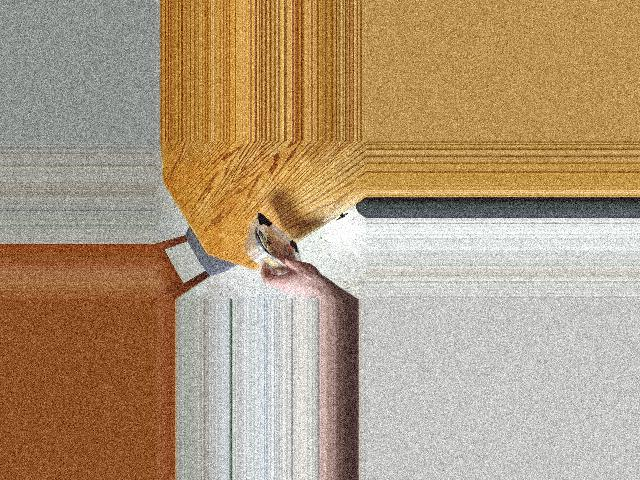cheese: (235, 213, 317, 271)
